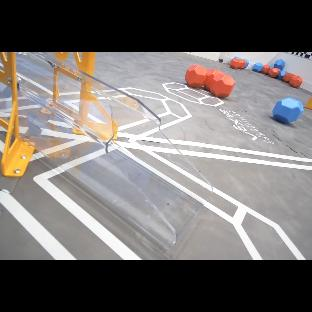V5_BLUE: (272, 97, 303, 124)
V5_RED: (185, 65, 235, 98), (282, 73, 302, 88), (260, 68, 282, 78), (230, 58, 246, 69)
